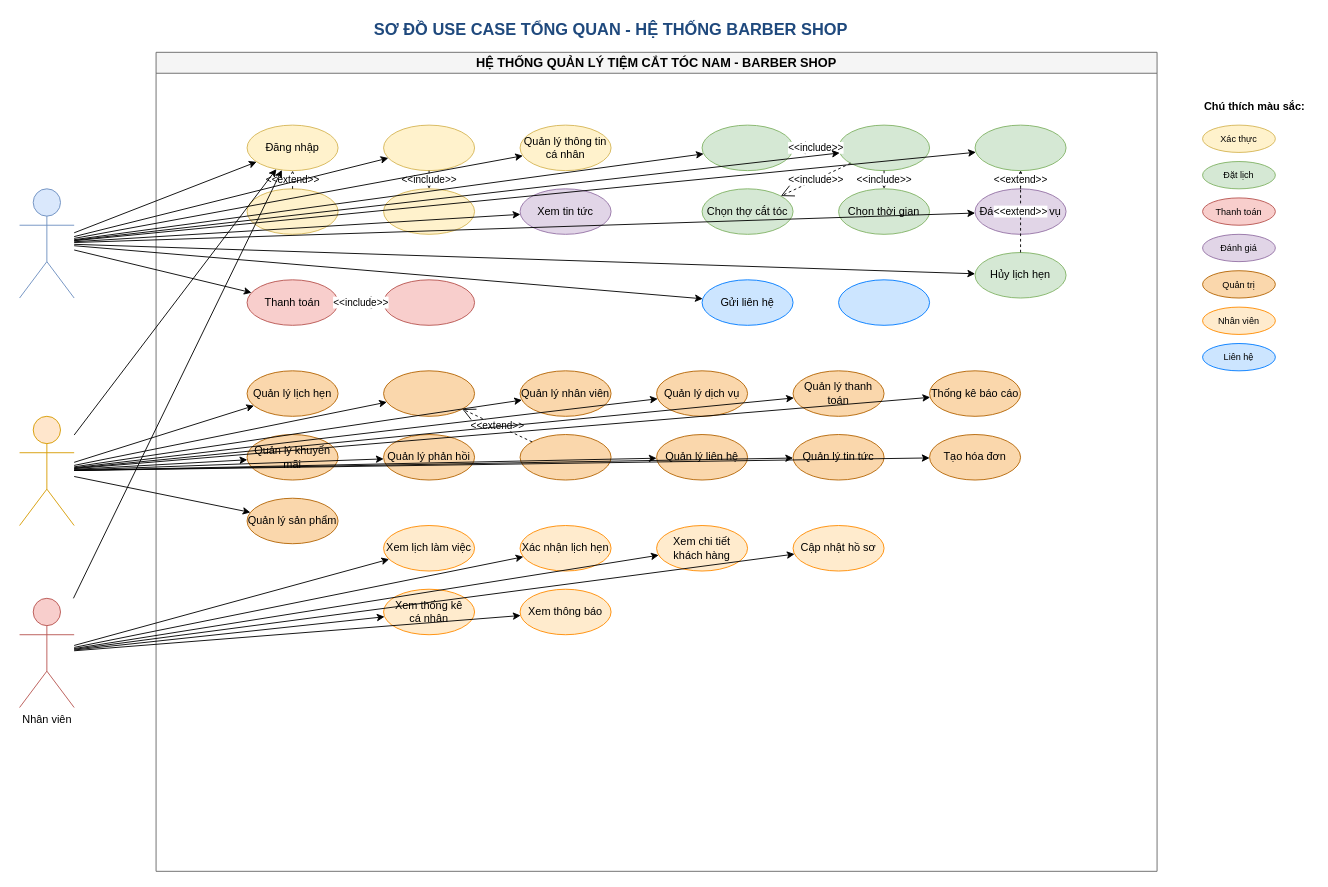
Some shapes in this 1328 by 887 pixel diagram are drawn without their labels. Here are the shapes that lost their labels. From the top down, the centre of each, then its label:
At pixel 429 147: "Đăng ký".
At pixel 747 147: "Xem thông tin dịch vụ".
At pixel 884 147: "Đặt dịch vụ".
At pixel 1020 147: "Xem lịch sử đặt lịch hẹn".
At pixel 292 211: "Quên mật khẩu".
At pixel 429 211: "Xác thực OTP".
At pixel 46 243: "Khách hàng".
At pixel 429 302: "Upload biên lai".
At pixel 884 302: "Nhận thông báo".
At pixel 429 393: "Quản lý khách hàng".
At pixel 46 470: "Quản trị viên".
At pixel 565 457: "Xem thông tin khách hàng".
